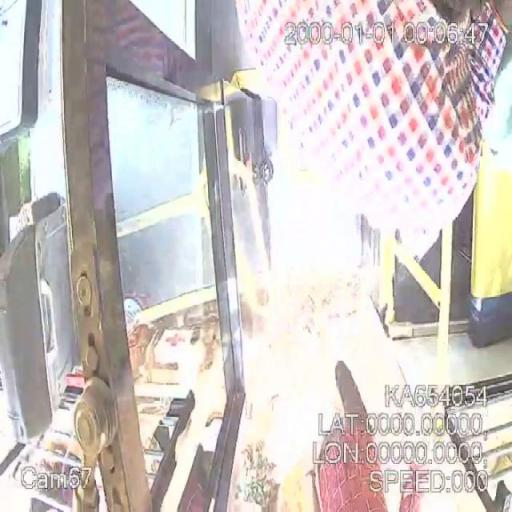persona: (234, 0, 508, 264), (309, 359, 389, 511)
